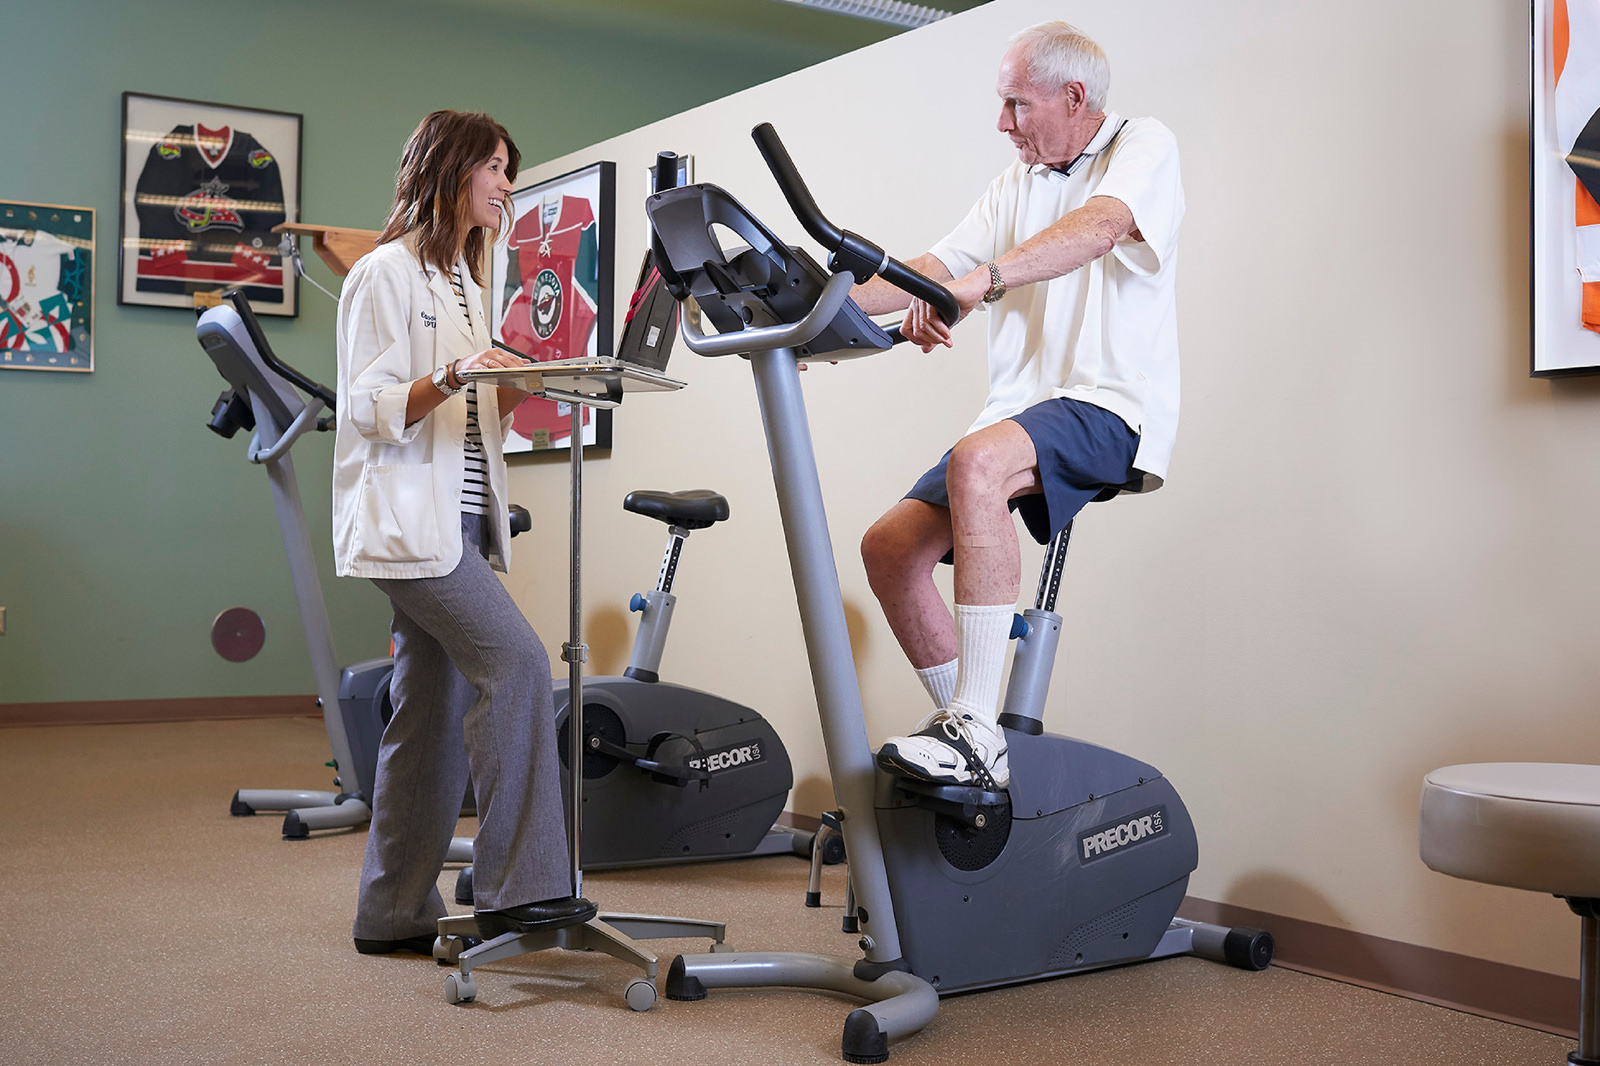gym_bike: (585, 108, 1334, 1061)
